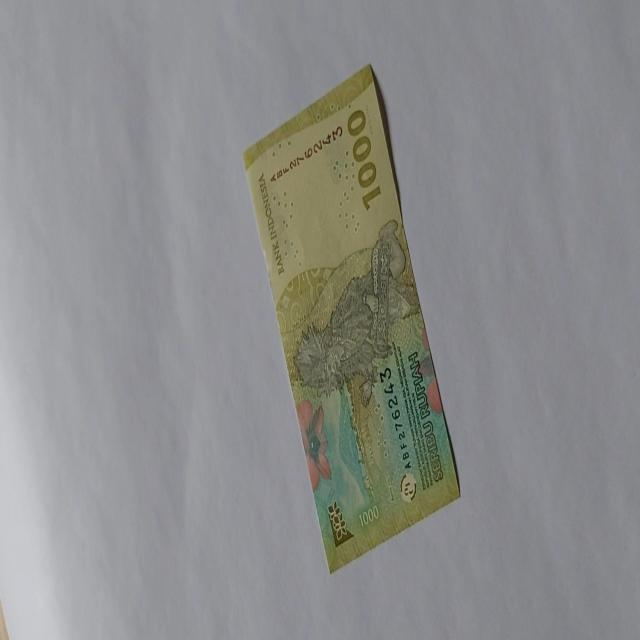seribu rupiah kertas: (241, 62, 461, 574)
